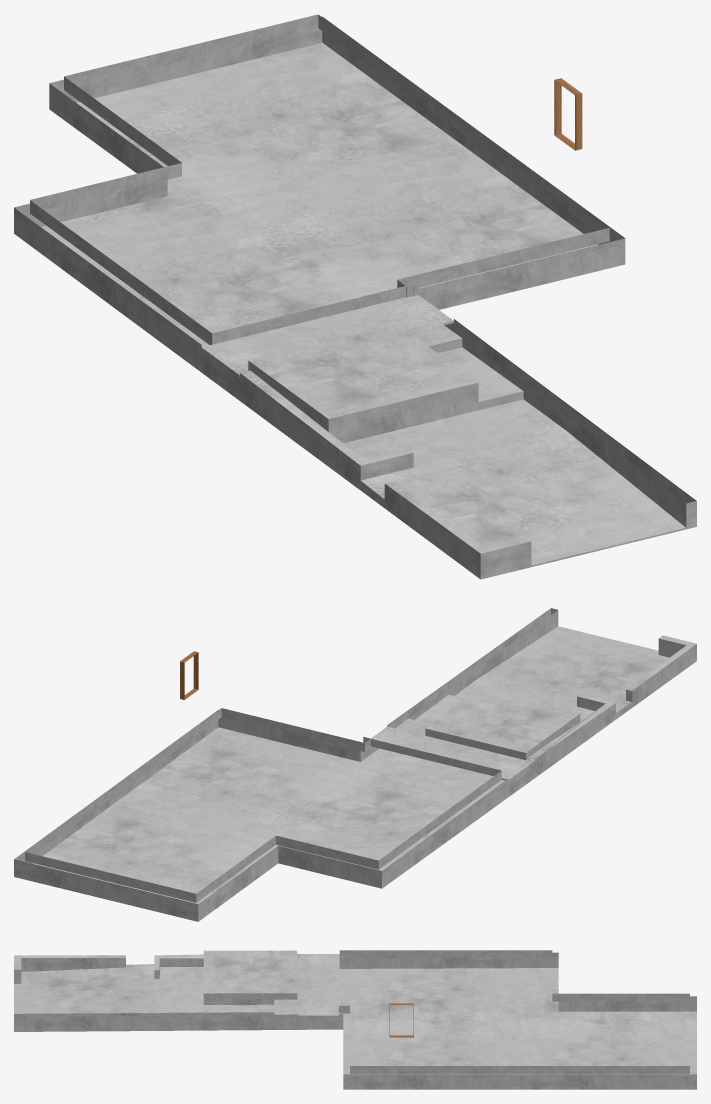
File: frame and level fix.fbx
The picture shows the model from 3 angles, top to bottom: view 1: azimuth 30°, elevation 25°; view 2: azimuth 150°, elevation 25°; view 3: azimuth 270°, elevation 25°; orthographic projection. The views are drawn at different scales.
Parts seen in each view (by area): view 1: Group_001; view 2: Group_001; view 3: Group_001.
Part boxes in pixels (x1,y1,x2,y2): Group_001: (14,14,696,579); Group_001: (14,608,696,921); Group_001: (14,950,696,1089).
Bounding box in the file's own units: 7560 × 2487 × 17935.
2 materials, 2 textured.
